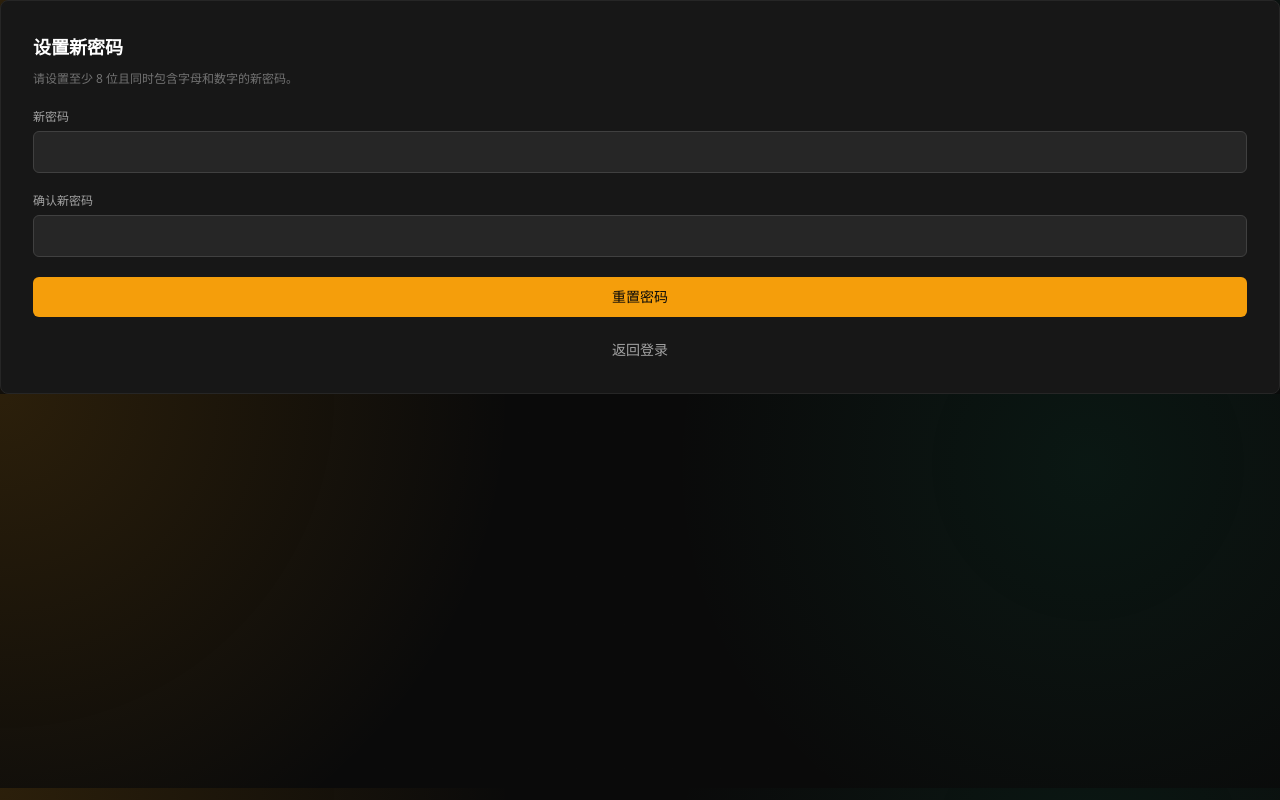
Scenario: PasswordRecoveryPanel › uses the opaque URL token to reset a matching strong password without displaying it
Type "replacement123" into the password field labelled "新密码".
click(640, 152); type("replacement123")  # box [33,131,1247,173]
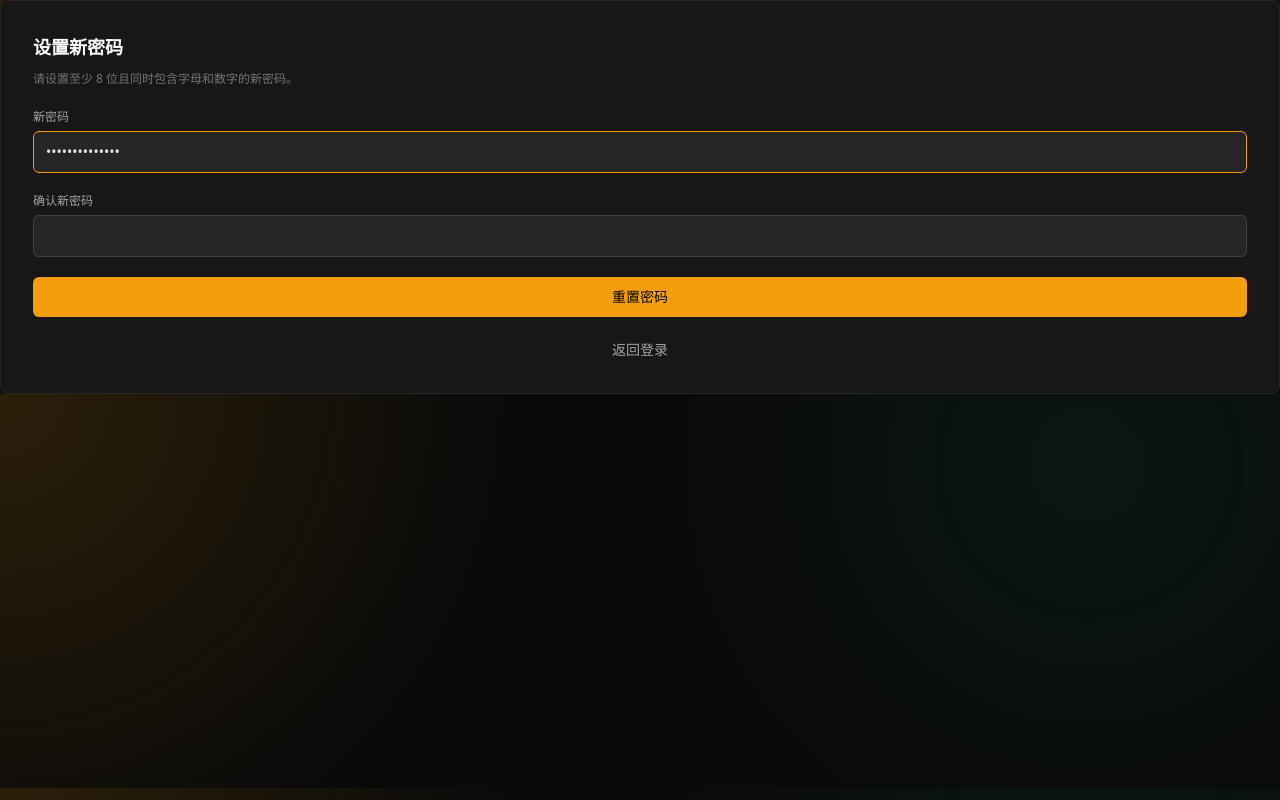
Type "replacement123" into the password field labelled "确认新密码".
click(640, 236); type("replacement123")  # box [33,215,1247,257]
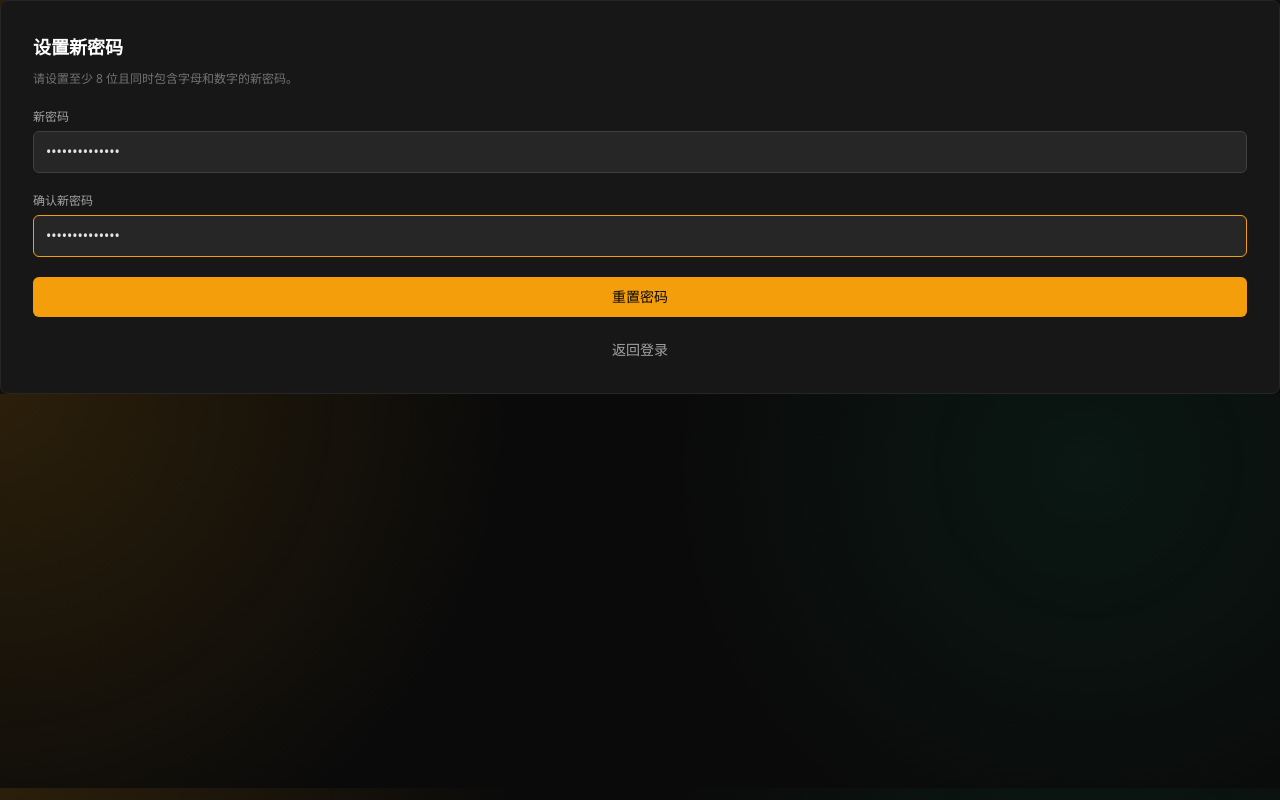
Click the button "重置密码".
click(640, 297)  # box [33,277,1247,317]
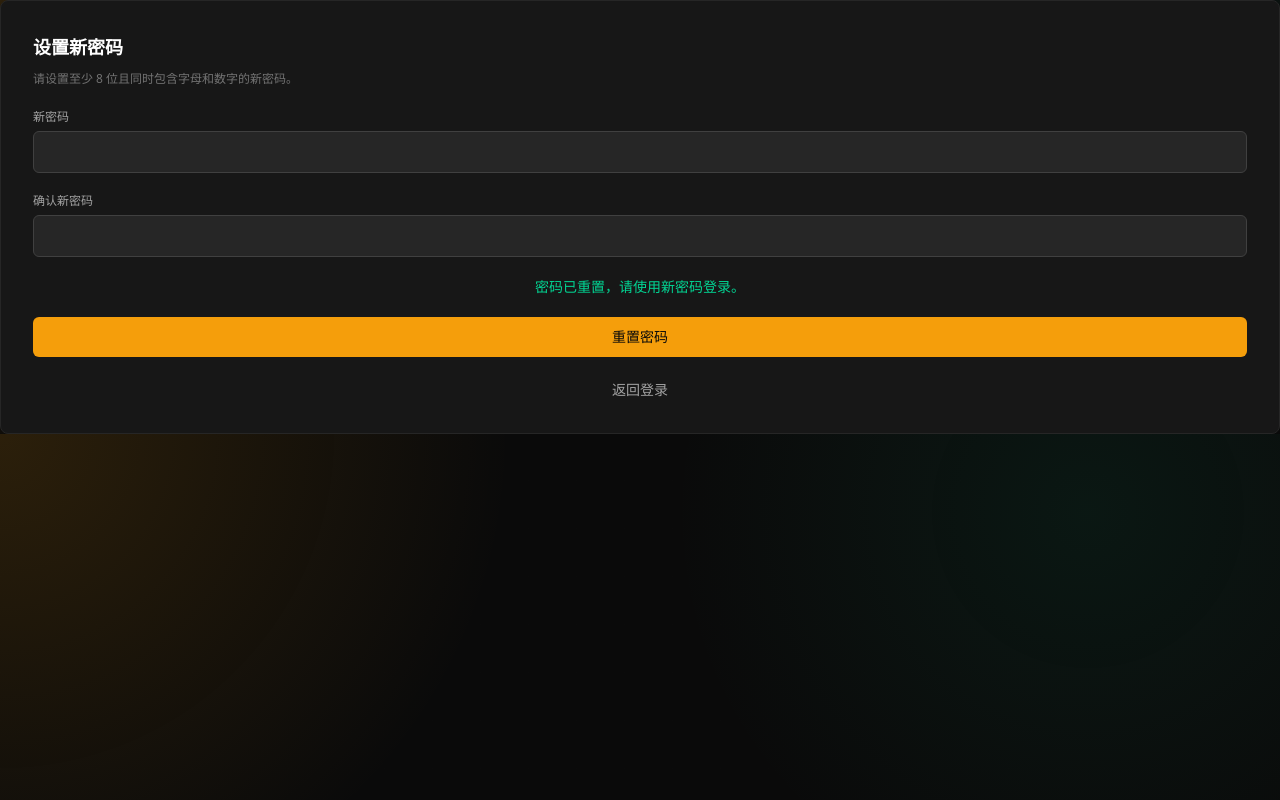
Check: the message reads "密码已重置，请使用新密码登录。", box [535,277,745,296]
